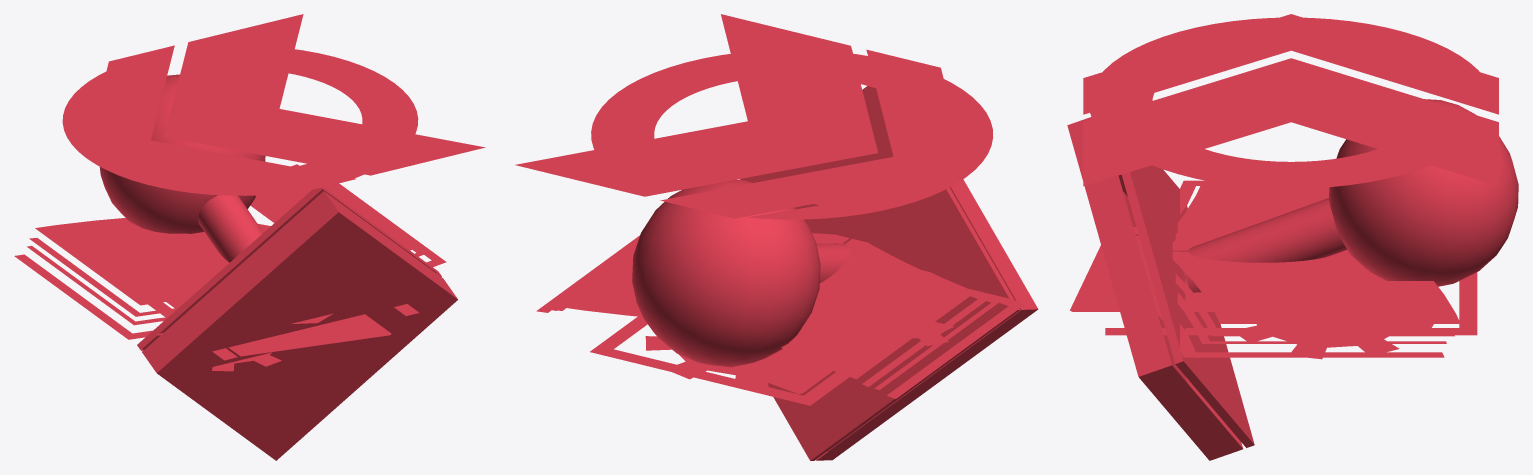
File: hud.fbx
The picture shows the model from 3 angles, left to right: view 1: azimuth 30°, elevation 25°; view 2: azimuth 150°, elevation 25°; view 3: azimuth 270°, elevation 25°; orthographic projection. The views are drawn at different scales.
Visible parts, largest first — view 1: icon_arcade, icon_back, icon_story, icon_retry, icon_quit; view 2: icon_arcade, icon_back, icon_story, icon_retry, icon_quit, icon_paramete; view 3: icon_arcade, icon_back, icon_story, icon_retry, icon_quit, icon_paramete.
Part boxes in pixels (x1,y1,x2,y2): icon_arcade: (99, 74, 457, 460); icon_back: (85, 14, 485, 194); icon_story: (14, 164, 446, 339); icon_retry: (62, 49, 418, 195); icon_quit: (148, 299, 419, 360); icon_arcade: (632, 86, 1038, 460); icon_back: (515, 14, 967, 218); icon_story: (536, 233, 1024, 398); icon_retry: (591, 53, 993, 219); icon_quit: (590, 316, 848, 405); icon_paramete: (645, 322, 954, 386); icon_arcade: (1067, 99, 1518, 460); icon_back: (1083, 14, 1498, 186); icon_story: (1139, 180, 1460, 357); icon_retry: (1090, 17, 1479, 188); icon_quit: (1070, 227, 1477, 335); icon_paramete: (1240, 324, 1433, 359).
Size of the model in its own units: 122 by 116 by 132.
